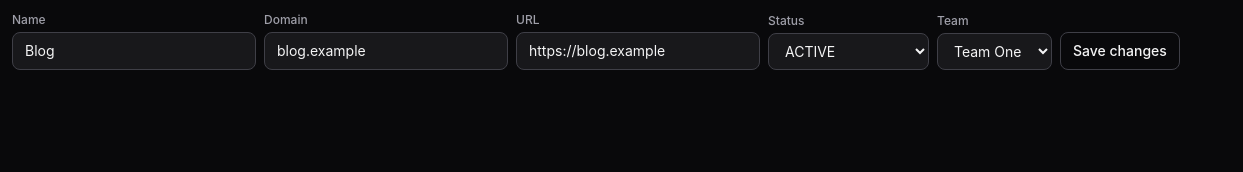
Test: EditWebsiteForm › renders initial values and saves on submit
Expected: the field labelled "Domain" holds "blog.example", x1=264 y1=32 x2=508 y2=70
Expected: the field labelled "URL" holds "https://blog.example", x1=516 y1=32 x2=760 y2=70
Replace the text in the field labelled "Name" with "New Blog": (134, 51) x1=12 y1=32 x2=256 y2=70
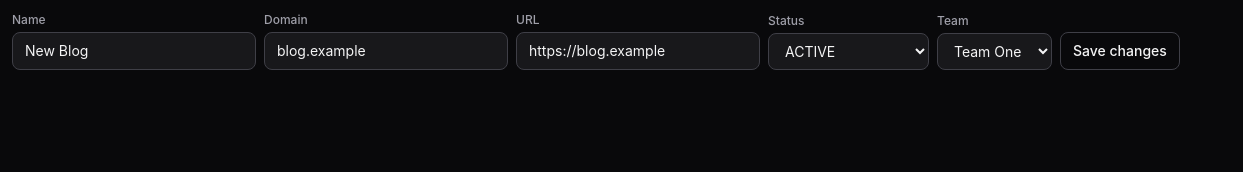
Click the button "Save changes": (1120, 51) x1=1060 y1=32 x2=1180 y2=70
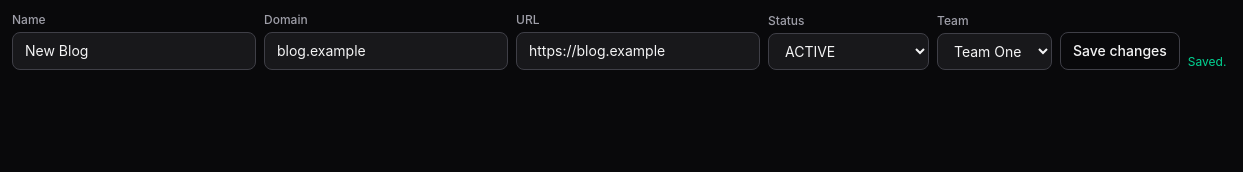
Expected: the text "Saved." is shown, x1=1188 y1=54 x2=1226 y2=70
